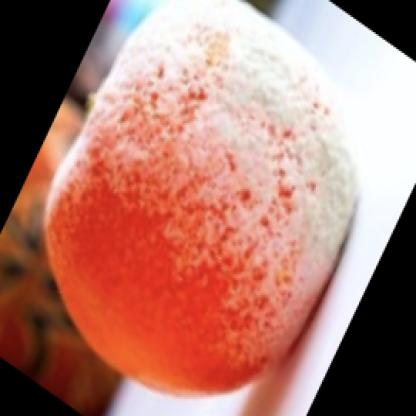rotten: (46, 3, 361, 400)
